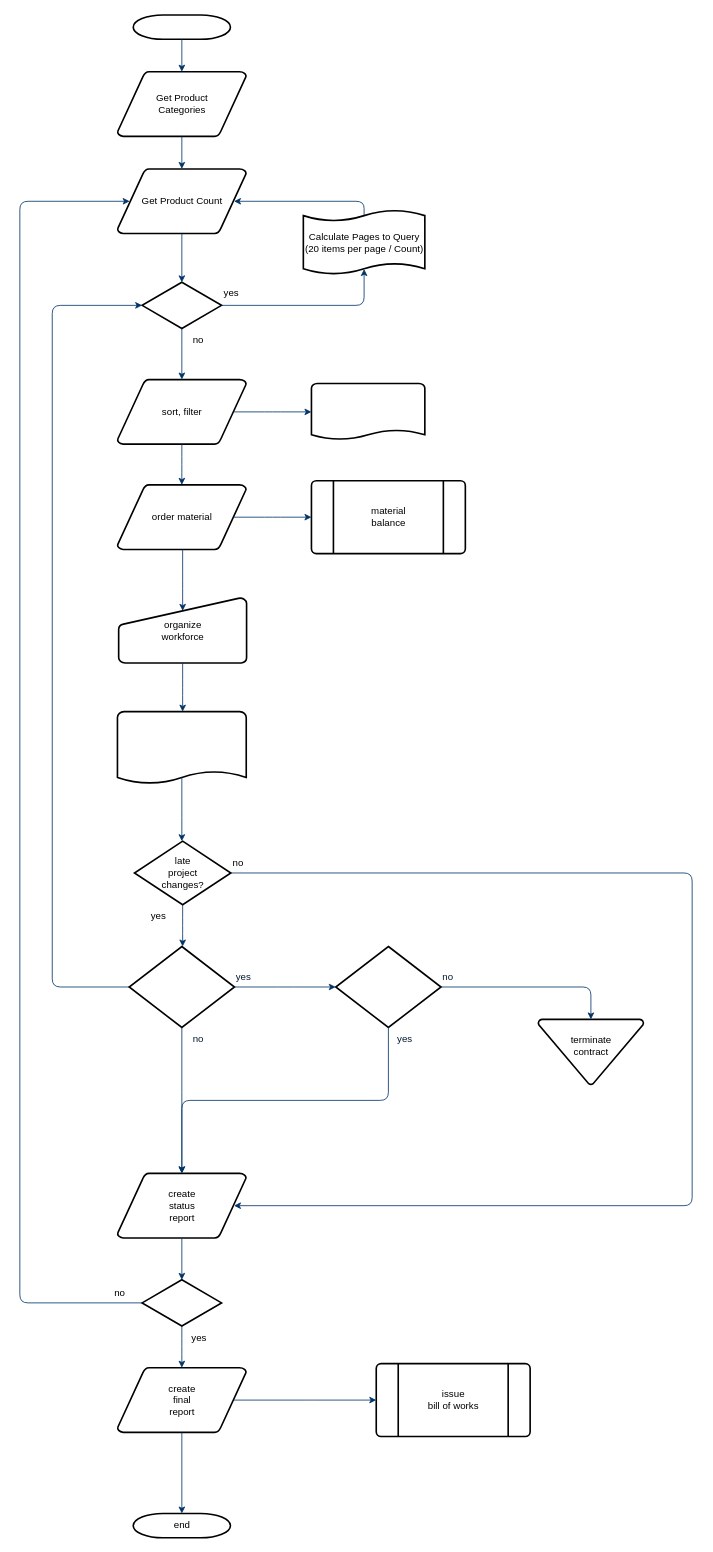
This 713x1552 diagram has some shape labels left out. Here are the shapes that lost their labels. From the top down, the box of each, then its label:
(132, 14, 231, 40): start
(141, 281, 222, 329): Join pg data
(310, 382, 425, 441): Visualize
(116, 710, 247, 785): create Gantt diagram
(128, 945, 235, 1028): investor disapproves investment?
(335, 945, 441, 1028): agreement?
(141, 1279, 222, 1326): project complete?
